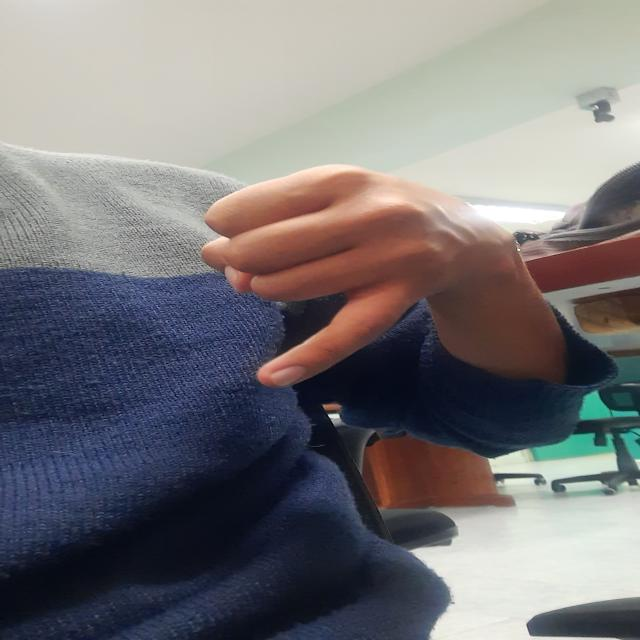J: (192, 157, 516, 388)
